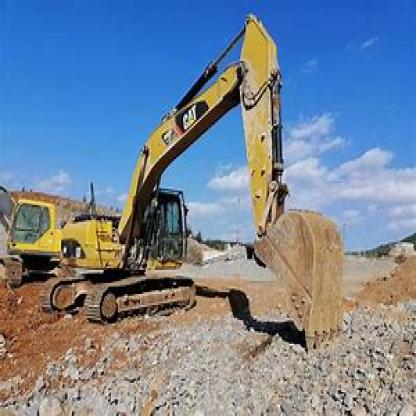excavator: (43, 6, 352, 358)
